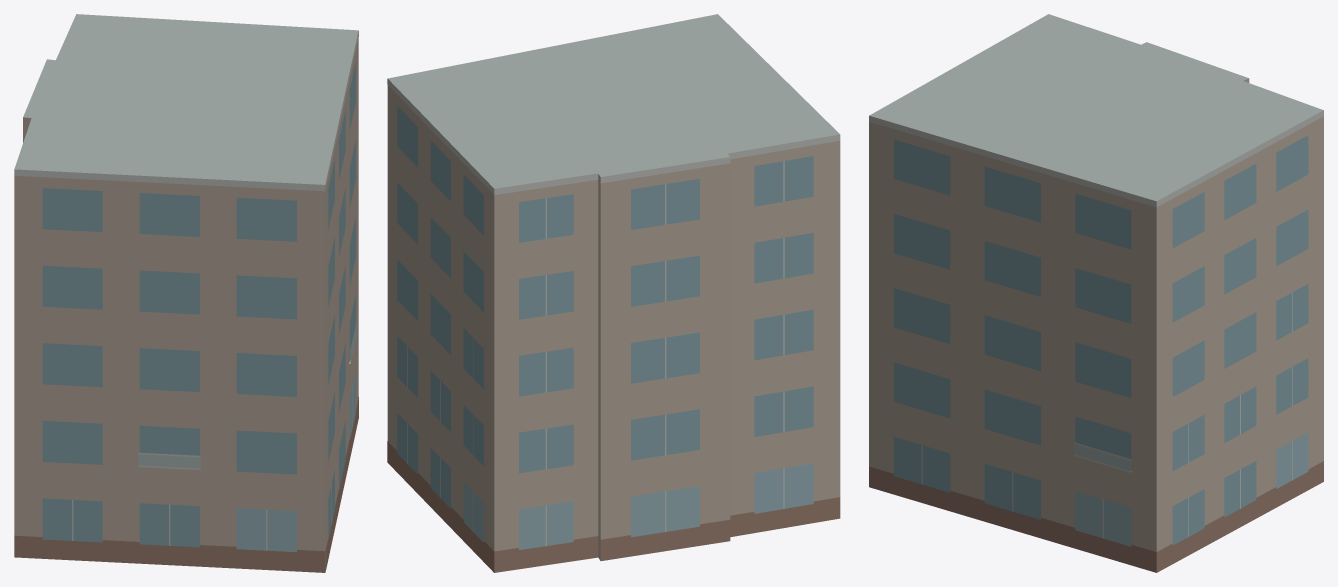
File: survey-upis-32909611.glb
3 views of the same model, side by side, from view 1: azimuth 30°, elevation 25°; view 2: azimuth 150°, elevation 25°; view 3: azimuth 270°, elevation 25° (orthographic). The views are drawn at different scales.
Parts seen in each view (by area): view 1: survey-upis-32909611.tmp; view 2: survey-upis-32909611.tmp; view 3: survey-upis-32909611.tmp.
Boxes of the visible parts, x1=… form: survey-upis-32909611.tmp: x1=14, y1=14, x2=358, y2=572; survey-upis-32909611.tmp: x1=387, y1=14, x2=840, y2=572; survey-upis-32909611.tmp: x1=869, y1=14, x2=1323, y2=572.
Bounding box in the file's own units: 16.12 × 14.9 × 16.54.
